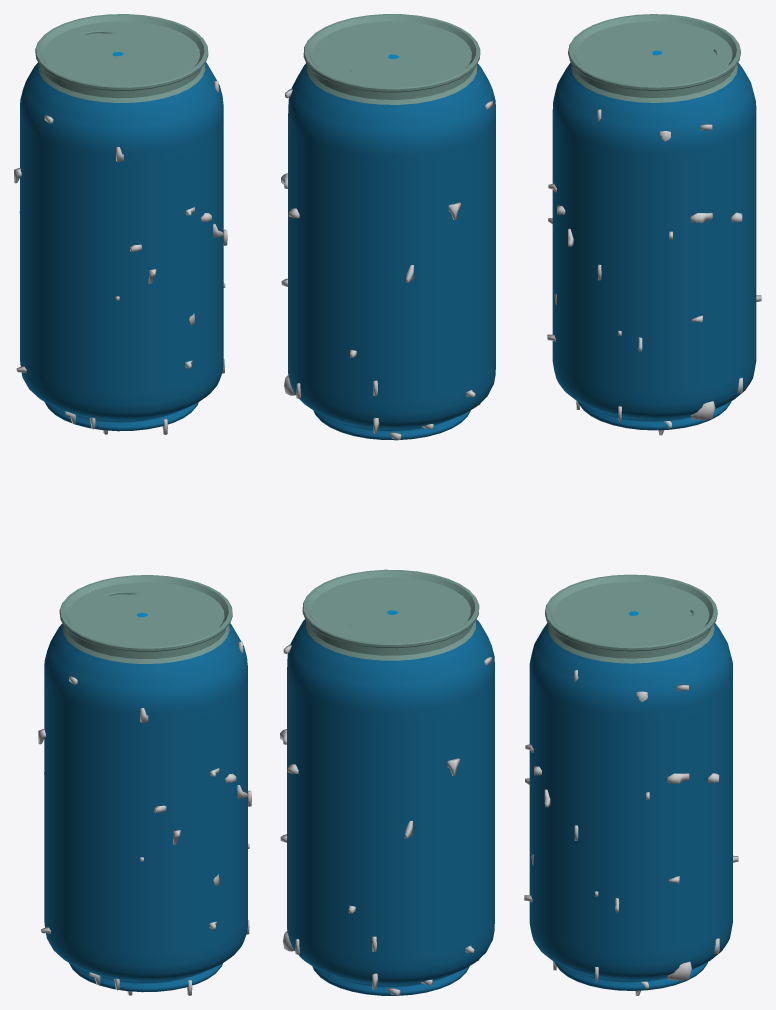
The model's file is addvet.obj.
3 views of the same model, side by side, from view 1: azimuth 30°, elevation 25°; view 2: azimuth 150°, elevation 25°; view 3: azimuth 270°, elevation 25° (orthographic). The views are drawn at different scales.
Visible parts, largest first — view 1: body.001, body, body.top.001, body.top; view 2: body.001, body, body.top.001, body.top; view 3: body, body.001, body.top.001, body.top.
Boxes of the visible parts, x1=… form: body.001: x1=38, y1=623, x2=251, y2=995; body: x1=14, y1=62, x2=227, y2=434; body.top.001: x1=59, y1=575, x2=232, y2=663; body.top: x1=35, y1=14, x2=208, y2=102; body.001: x1=280, y1=619, x2=494, y2=995; body: x1=281, y1=63, x2=495, y2=440; body.top.001: x1=302, y1=569, x2=479, y2=660; body.top: x1=303, y1=14, x2=480, y2=104; body: x1=547, y1=62, x2=761, y2=435; body.001: x1=524, y1=623, x2=738, y2=995; body.top.001: x1=545, y1=574, x2=717, y2=663; body.top: x1=568, y1=14, x2=740, y2=102.
Bounding box in the file's own units: 2.71 × 11.91 × 2.82.
